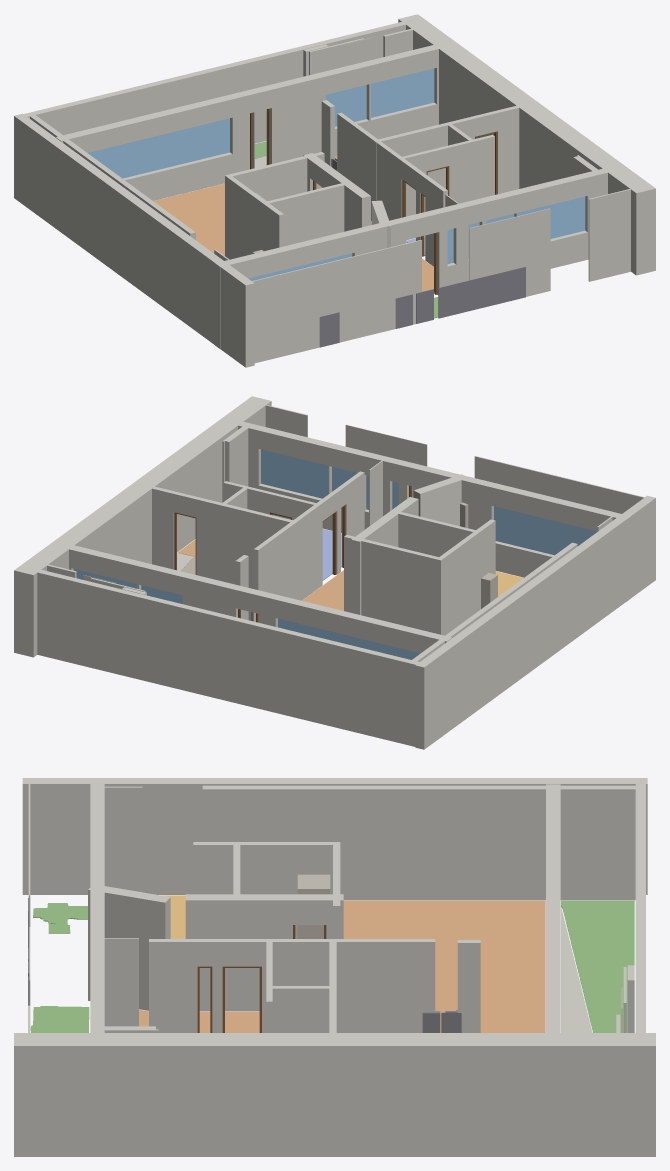
3 views of the same model, one above another, from view 1: azimuth 30°, elevation 25°; view 2: azimuth 150°, elevation 25°; view 3: azimuth 270°, elevation 25° (orthographic). The views are drawn at different scales.
Parts seen in each view (by area): view 1: walls, railings, window_7, floor_3_Living_Room, window_6, window_5, window_8; view 2: walls, window_4, window_5, window_7, floor_3_Living_Room, floor_8_Bed_Room; view 3: walls, floor_3_Living_Room, floor_0_Outdoor, floor_1_Undefined, floor_14_Outdoor, floor_13_Outdoor, furniture_0_closet, railings, floor_10_Kitchen.
Part boxes in pixels (x1,y1,x2,y2): walls: (14,14,655,367); railings: (319,158,525,347); window_7: (88,118,229,178); floor_3_Living_Room: (153,183,433,291); window_6: (371,68,434,117); window_5: (517,196,585,238); window_8: (325,85,366,126); walls: (14,396,655,749); window_4: (494,506,596,555); window_5: (261,449,328,498); window_7: (278,618,420,659); floor_3_Living_Room: (302,570,343,610); floor_8_Bed_Room: (322,529,341,580); walls: (14,778,655,1156); floor_3_Living_Room: (139,900,545,1032); floor_0_Outdoor: (561,900,634,1032); floor_1_Undefined: (561,906,592,1032); floor_14_Outdoor: (30,1006,89,1032); floor_13_Outdoor: (33,903,87,933); furniture_0_closet: (297,874,330,938); railings: (28,898,461,1032); floor_10_Kitchen: (161,895,185,938).
Bounding box in the file's own units: 13.98 × 2.72 × 14.16.
